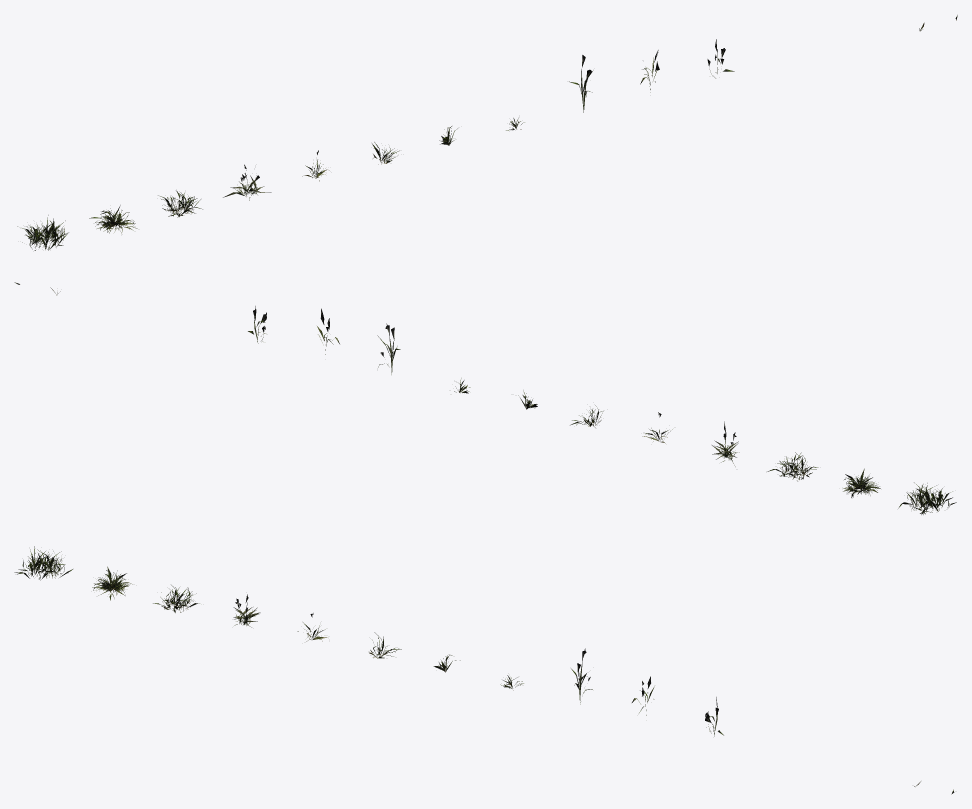
File: m_grass_medium_01.69ebce87c4.glb
The picture shows the model from 3 angles, top to bottom: view 1: azimuth 30°, elevation 25°; view 2: azimuth 150°, elevation 25°; view 3: azimuth 330°, elevation 25°; orthographic projection.
Visible parts, largest first — view 1: grass_medium_01_small_a_LOD0; view 2: grass_medium_01_small_a_LOD0; view 3: grass_medium_01_small_a_LOD0.
Part boxes in pixels (x1=…): grass_medium_01_small_a_LOD0: x1=17, y1=15, x2=957, y2=250; grass_medium_01_small_a_LOD0: x1=14, y1=282, x2=956, y2=514; grass_medium_01_small_a_LOD0: x1=14, y1=546, x2=954, y2=794.
Bounding box in the file's own units: 5.59 × 0.3389 × 0.3178.
Materials: 1 (1 with a texture image).
